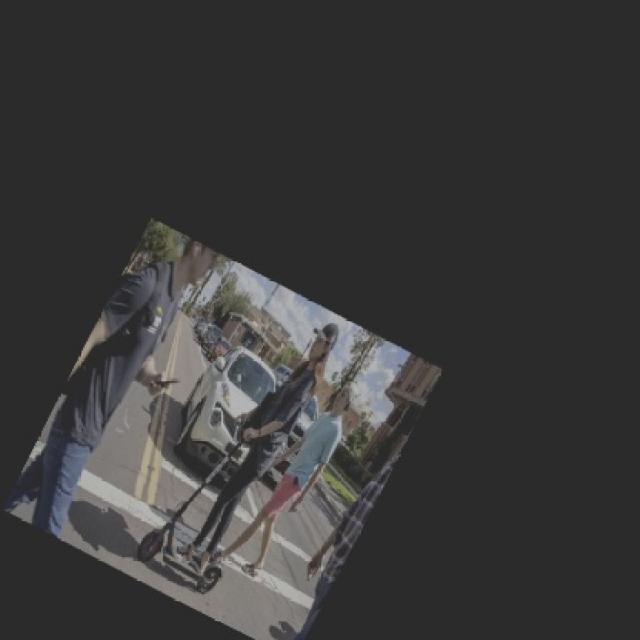bare_head: (289, 317, 367, 363)
human: (188, 320, 353, 567)
kickboard: (125, 522, 242, 593)
